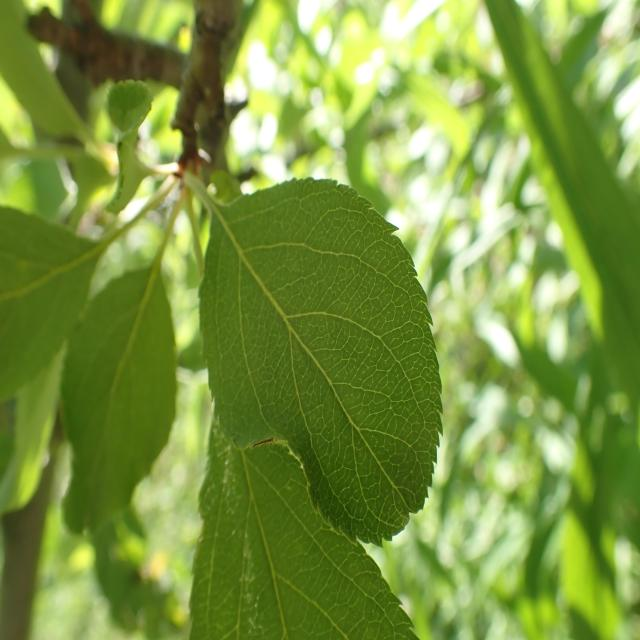healthy: (198, 176, 444, 549), (187, 403, 419, 640), (60, 264, 178, 536)
